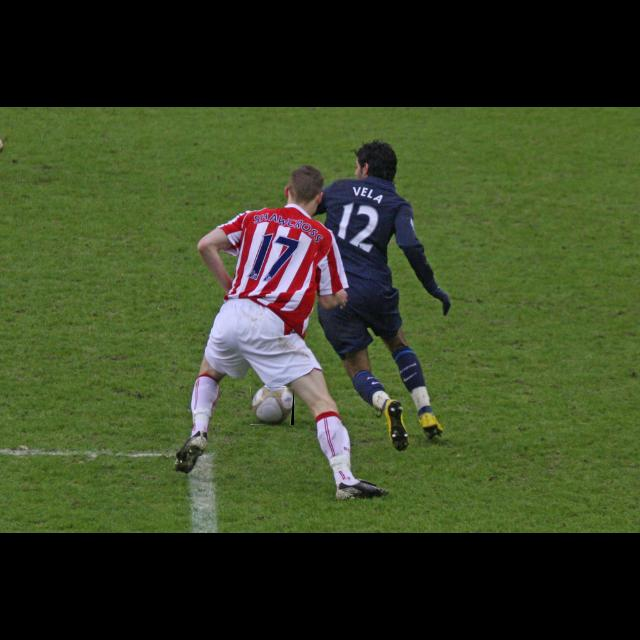Football: (250, 387, 294, 425)
